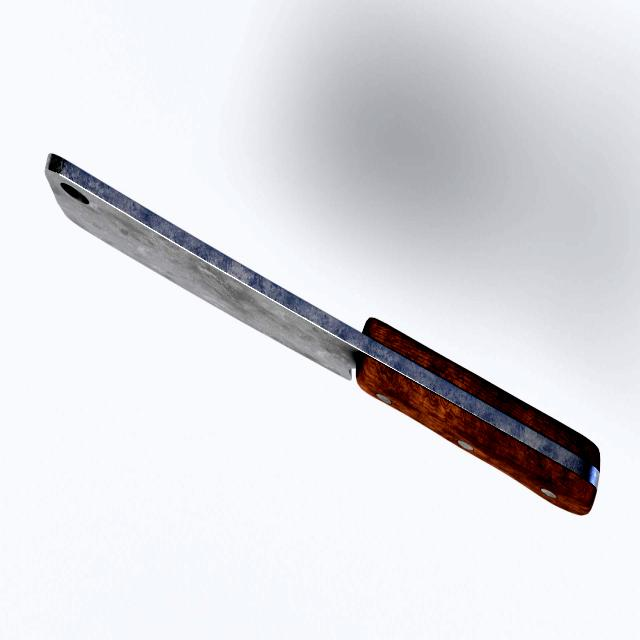cleaver: (44, 147, 605, 523)
